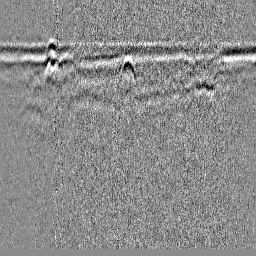cavity: (117, 54, 139, 90)
